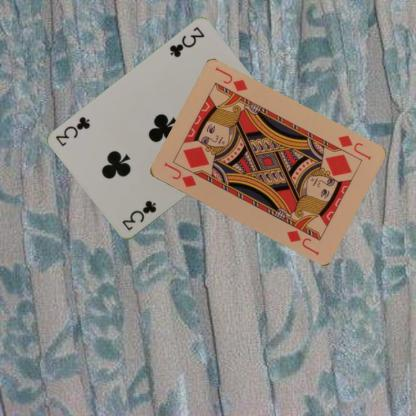3c: (167, 24, 206, 59), (119, 198, 158, 232)
Jd: (335, 132, 372, 162), (161, 160, 197, 189)
